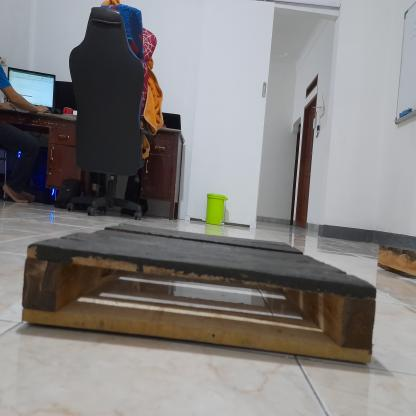Wooden-Pallet: (20, 217, 378, 368)
